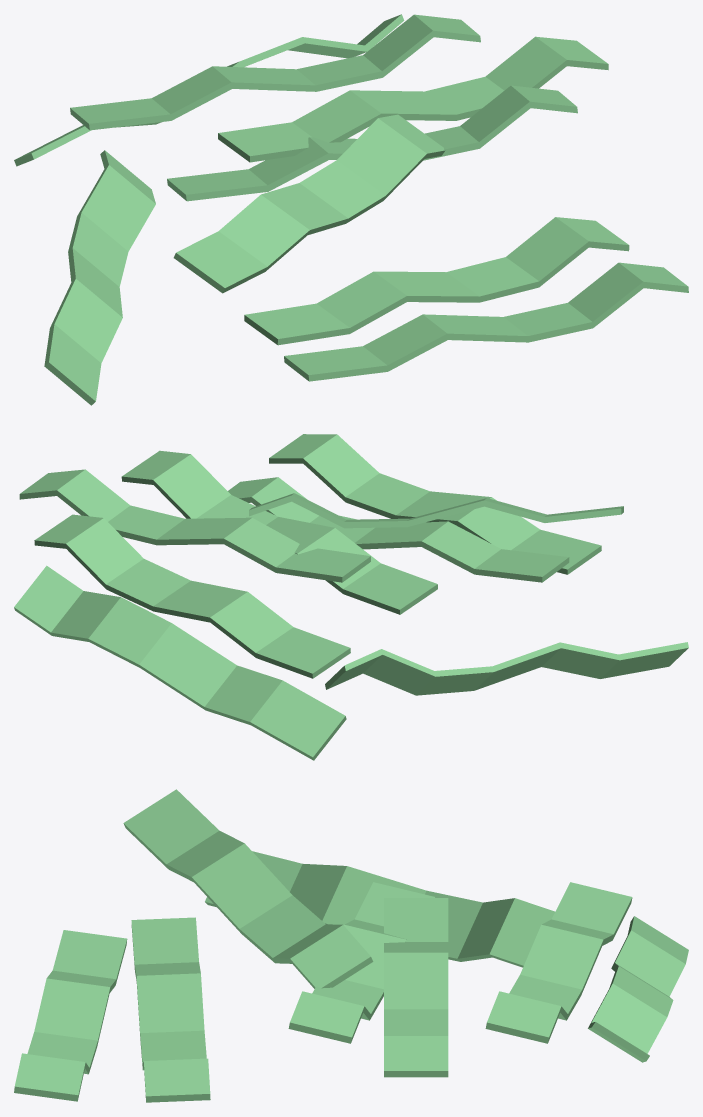
Rendered from lettuce Brunch.fbx.
3 views of the same model, one above another, from view 1: azimuth 30°, elevation 25°; view 2: azimuth 150°, elevation 25°; view 3: azimuth 270°, elevation 25° (orthographic). The views are drawn at different scales.
Visible parts, largest first — view 1: Cube.001, Cube.005, Cube.004, Cube, Cube.006, Cube.002, Cube.003, Cube.007; view 2: Cube.007, Cube.002, Cube.006, Cube, Cube.003, Cube.004, Cube.005, Cube.001; view 3: Cube.001, Cube.005, Cube, Cube.006, Cube.002, Cube.004, Cube.007, Cube.003.
Part boxes in pixels (x1=…): Cube.001: x1=173, y1=114, x2=445, y2=293; Cube.005: x1=244, y1=217, x2=629, y2=345; Cube.004: x1=44, y1=150, x2=155, y2=405; Cube: x1=218, y1=36, x2=608, y2=162; Cube.006: x1=284, y1=262, x2=688, y2=381; Cube.002: x1=70, y1=14, x2=480, y2=130; Cube.003: x1=167, y1=85, x2=577, y2=201; Cube.007: x1=14, y1=14, x2=404, y2=166; Cube.007: x1=14, y1=565, x2=346, y2=760; Cube.002: x1=34, y1=514, x2=350, y2=678; Cube.006: x1=269, y1=434, x2=601, y2=574; Cube: x1=19, y1=469, x2=370, y2=582; Cube.003: x1=121, y1=450, x2=437, y2=614; Cube.004: x1=325, y1=642, x2=688, y2=695; Cube.005: x1=228, y1=477, x2=569, y2=582; Cube.001: x1=249, y1=493, x2=623, y2=528; Cube.001: x1=123, y1=789, x2=373, y2=988; Cube.005: x1=131, y1=917, x2=210, y2=1102; Cube: x1=384, y1=898, x2=448, y2=1077; Cube.006: x1=14, y1=930, x2=127, y2=1101; Cube.002: x1=485, y1=882, x2=632, y2=1043; Cube.004: x1=205, y1=851, x2=554, y2=967; Cube.007: x1=588, y1=916, x2=688, y2=1062; Cube.003: x1=288, y1=882, x2=435, y2=1043.
Size of the model in its own units: 89.78 by 20.55 by 80.94.
